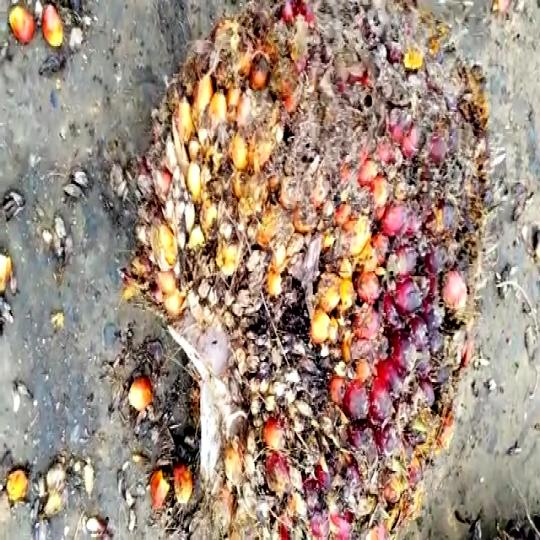masak: (126, 0, 483, 540)
